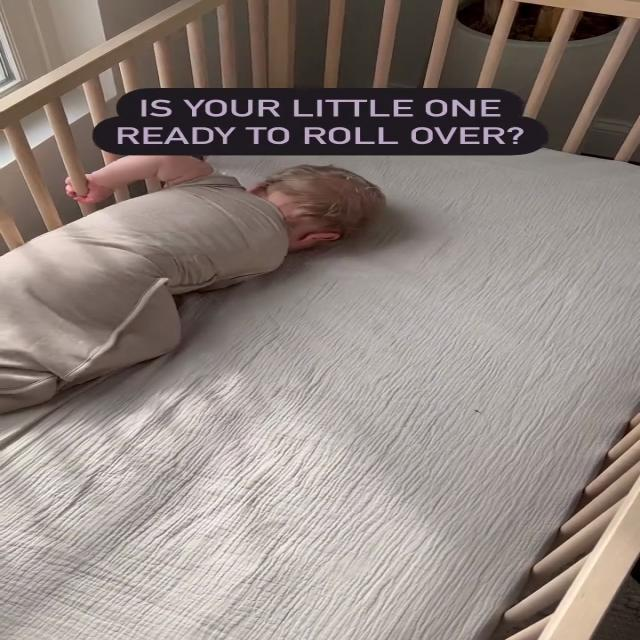baby: (1, 137, 388, 414)
